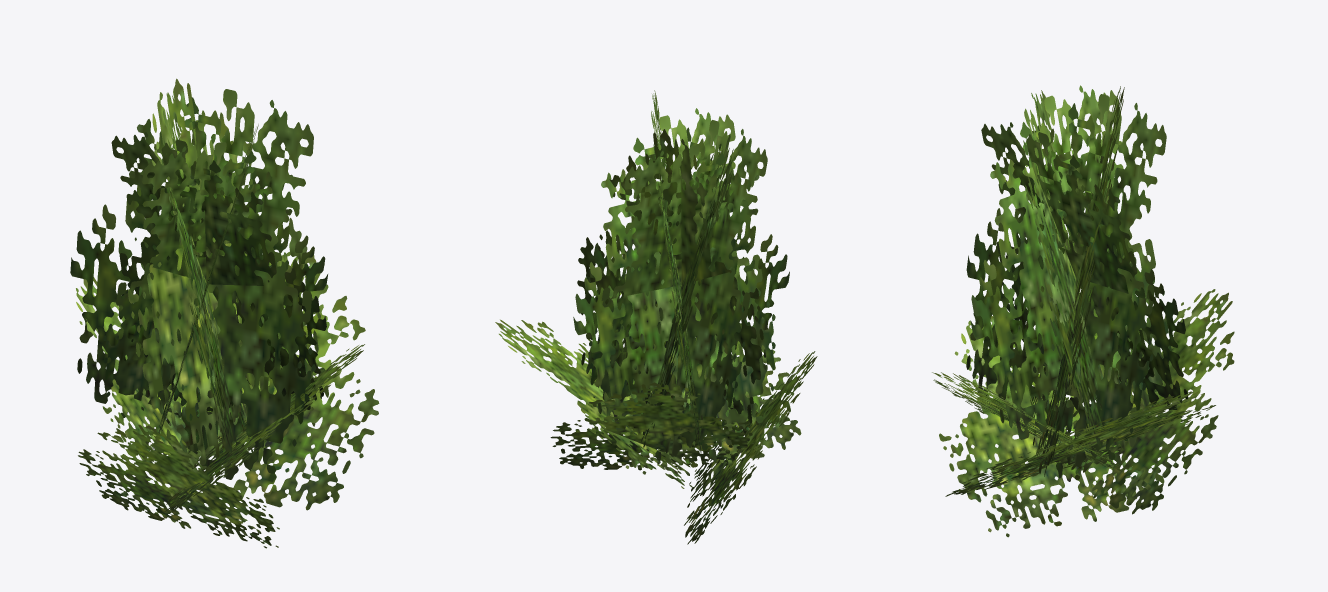
The model's file is bush_me_6.glb.
3 views of the same model, side by side, from view 1: azimuth 30°, elevation 25°; view 2: azimuth 150°, elevation 25°; view 3: azimuth 270°, elevation 25° (orthographic). The views are drawn at different scales.
Visible parts, largest first — view 1: bush_me_6; view 2: bush_me_6; view 3: bush_me_6.
Part boxes in pixels (x1,y1,x2,y2): bush_me_6: (70, 78, 379, 548); bush_me_6: (495, 90, 817, 544); bush_me_6: (932, 85, 1234, 537).
Size of the model in its own units: 5.36 by 6.45 by 5.43.
1 material, 1 textured.
